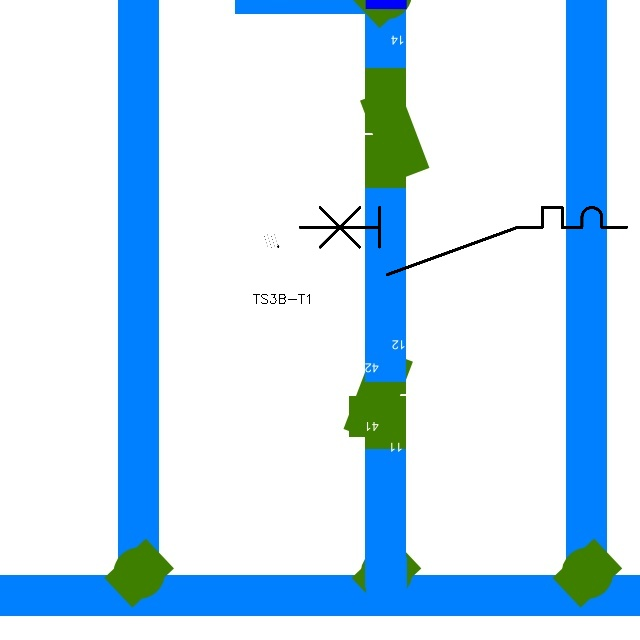interruptor_termomagnetico: (291, 199, 634, 283)
